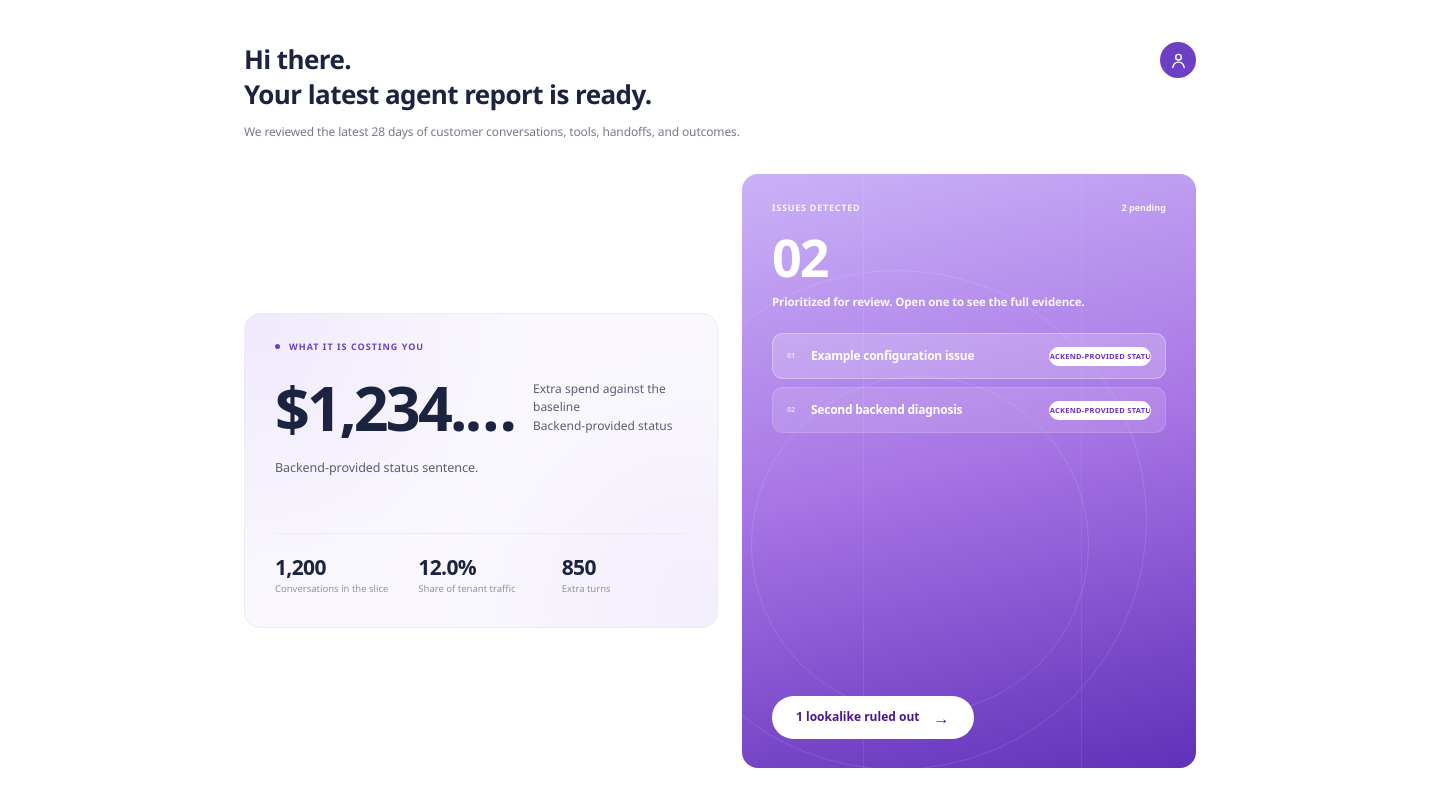
Test: Nexus Loop overview › opens the issue currently clicked after a hover preview without another fetch
Hover over the button with aria-label "A lookup is not returning answers": (887,410) [772, 387, 1166, 433]
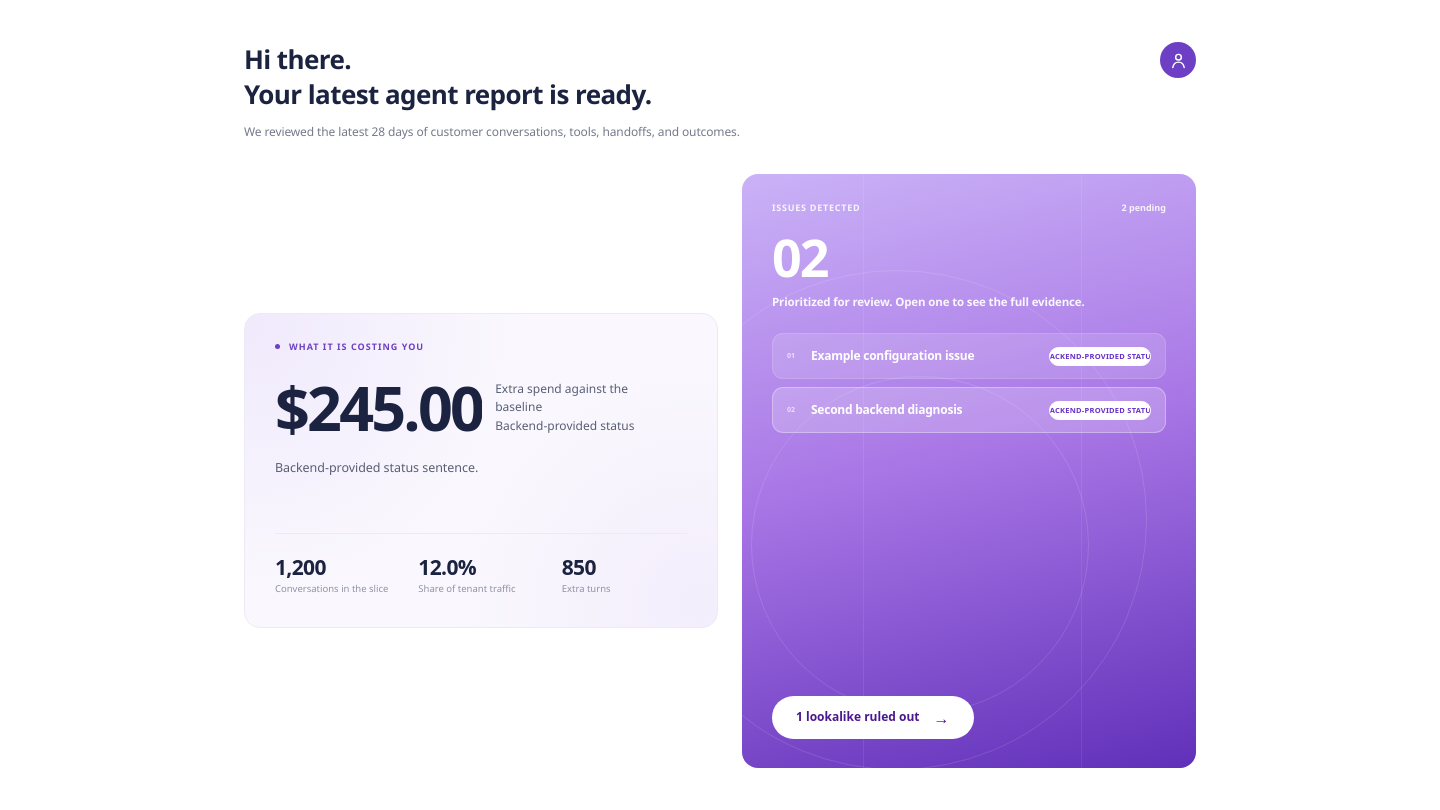
Click the button with aria-label "A lookup is not returning answers": (887,410) [772, 387, 1166, 433]
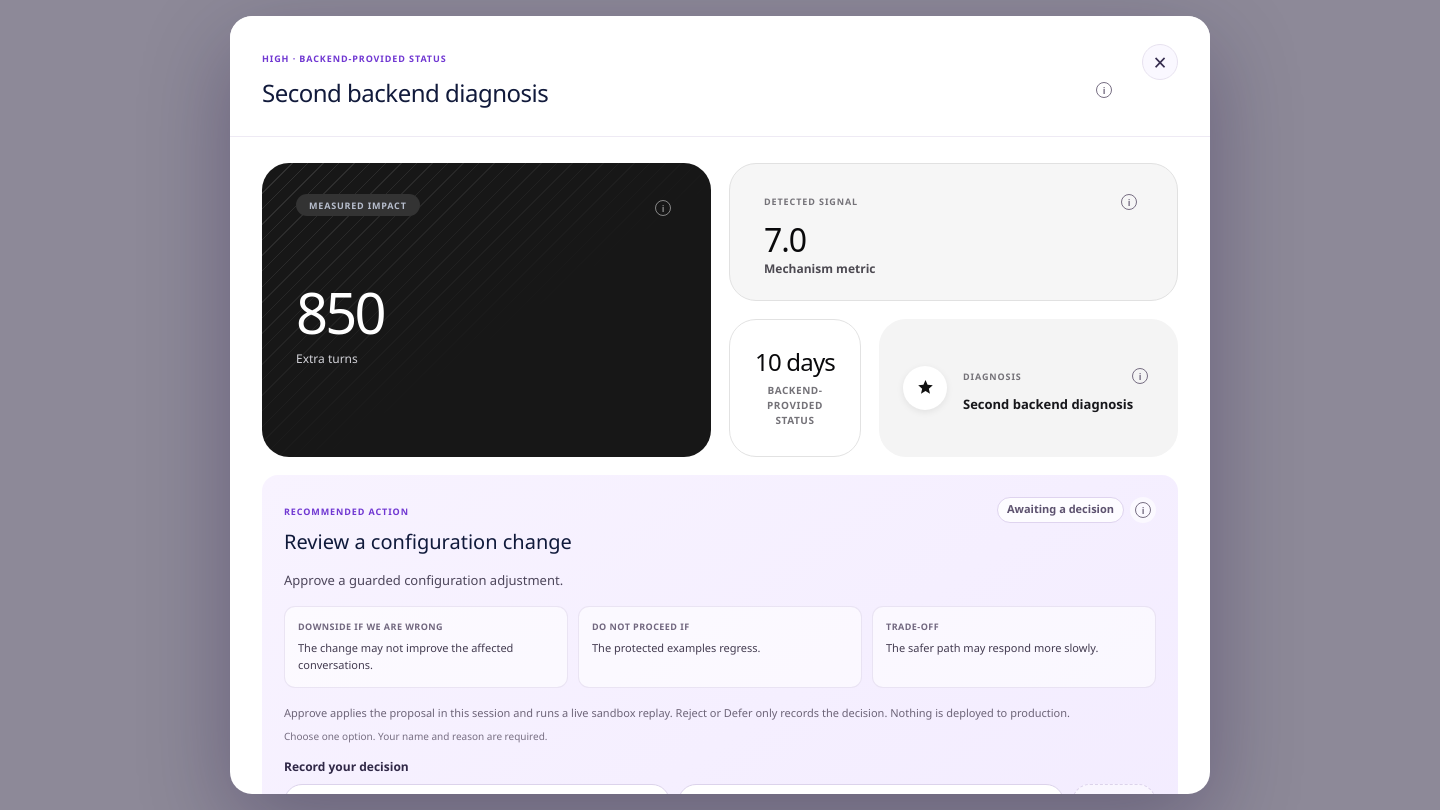
expect the dialog "Second backend diagnosis" is shown: met
